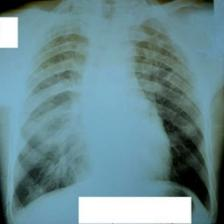tuberculosis: (9, 17, 215, 223)
